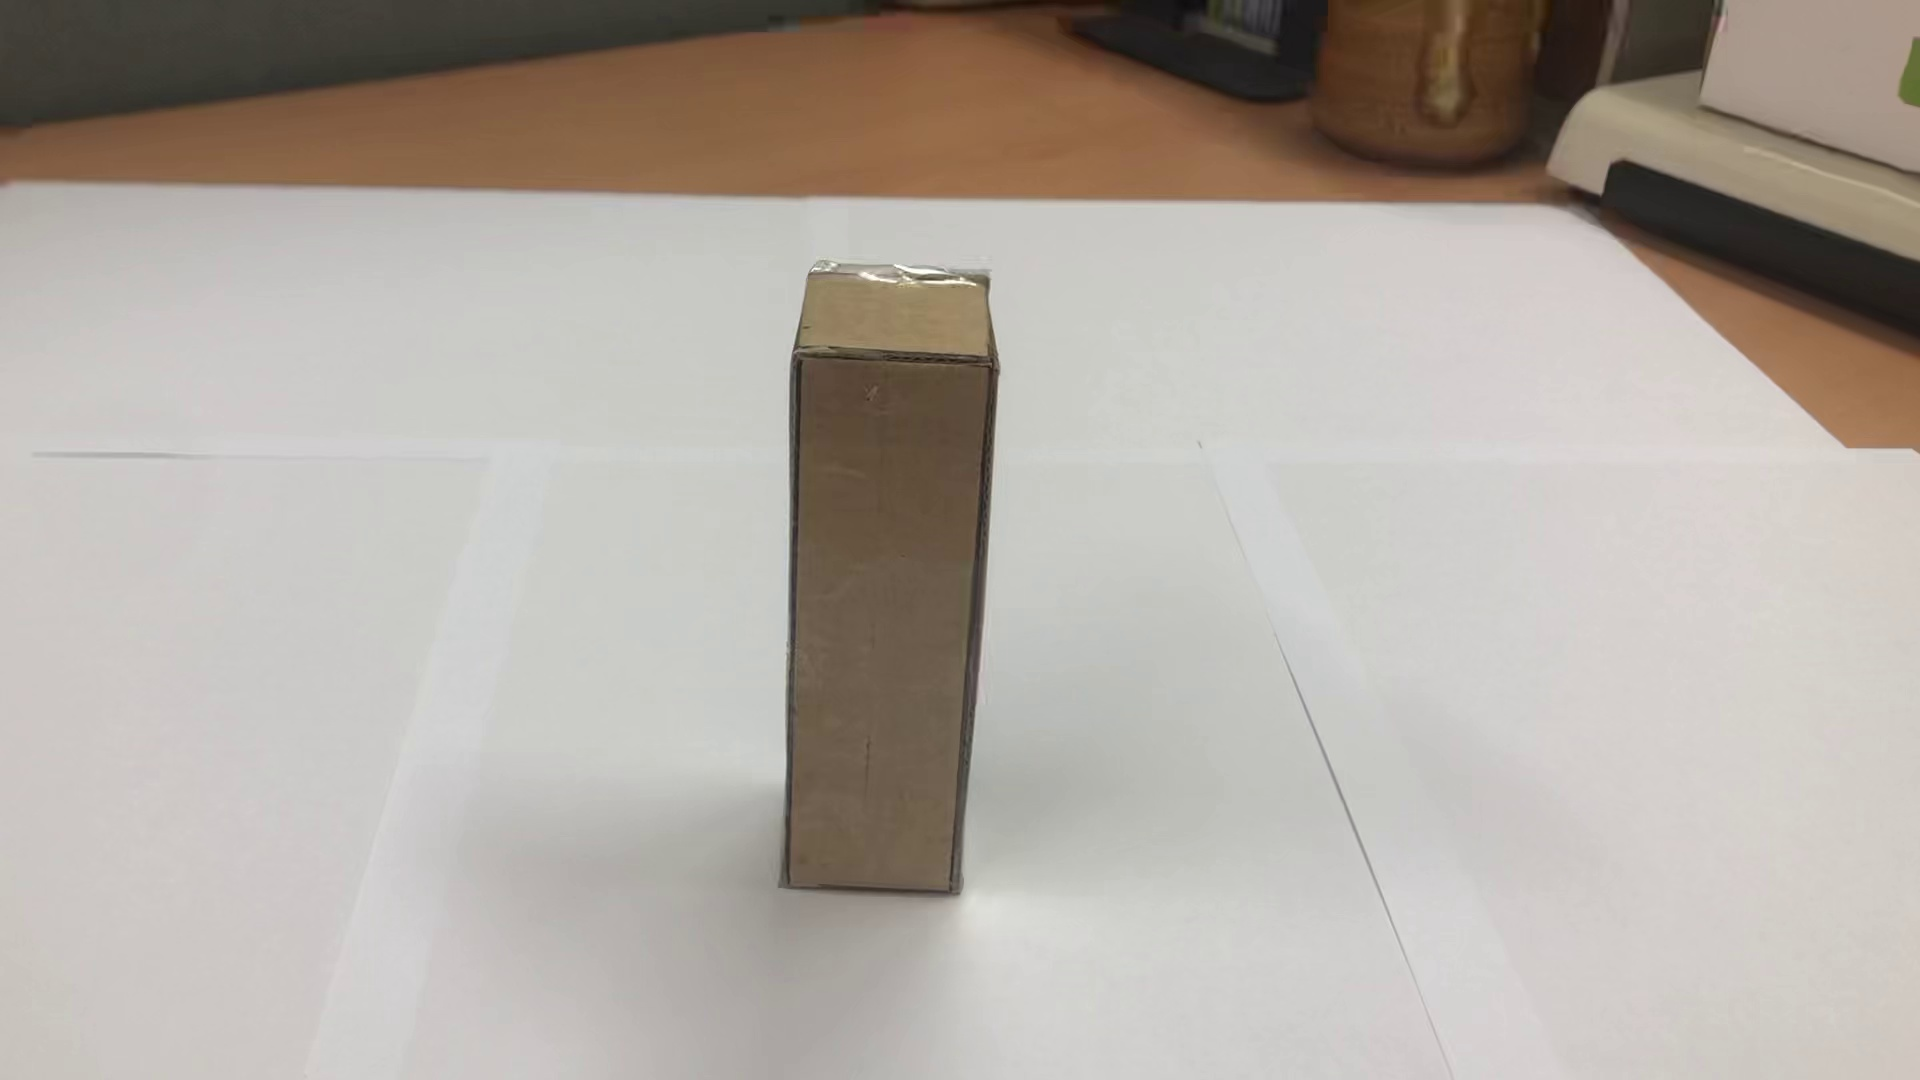box: (713, 214, 1055, 943)
